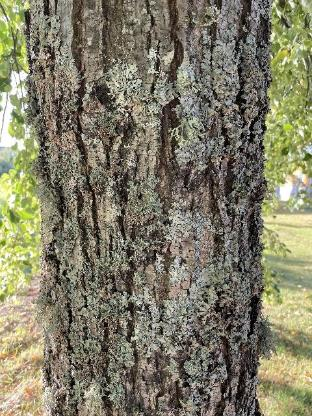tree: (18, 0, 283, 416)
